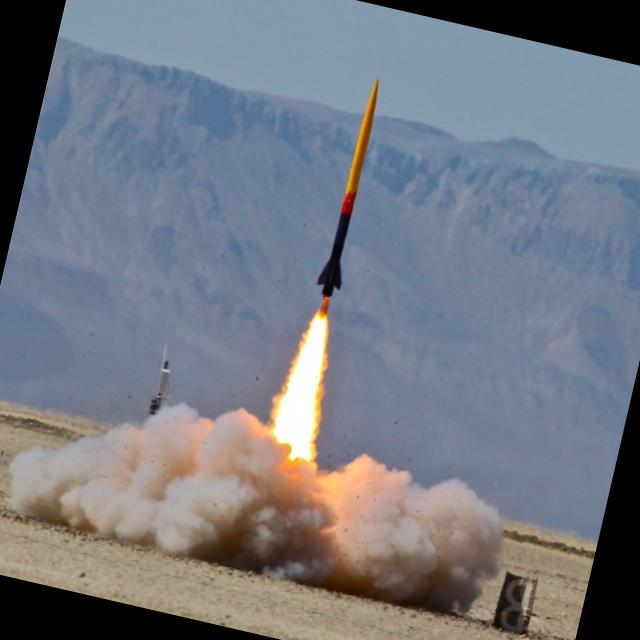rocket: (271, 73, 395, 492)
